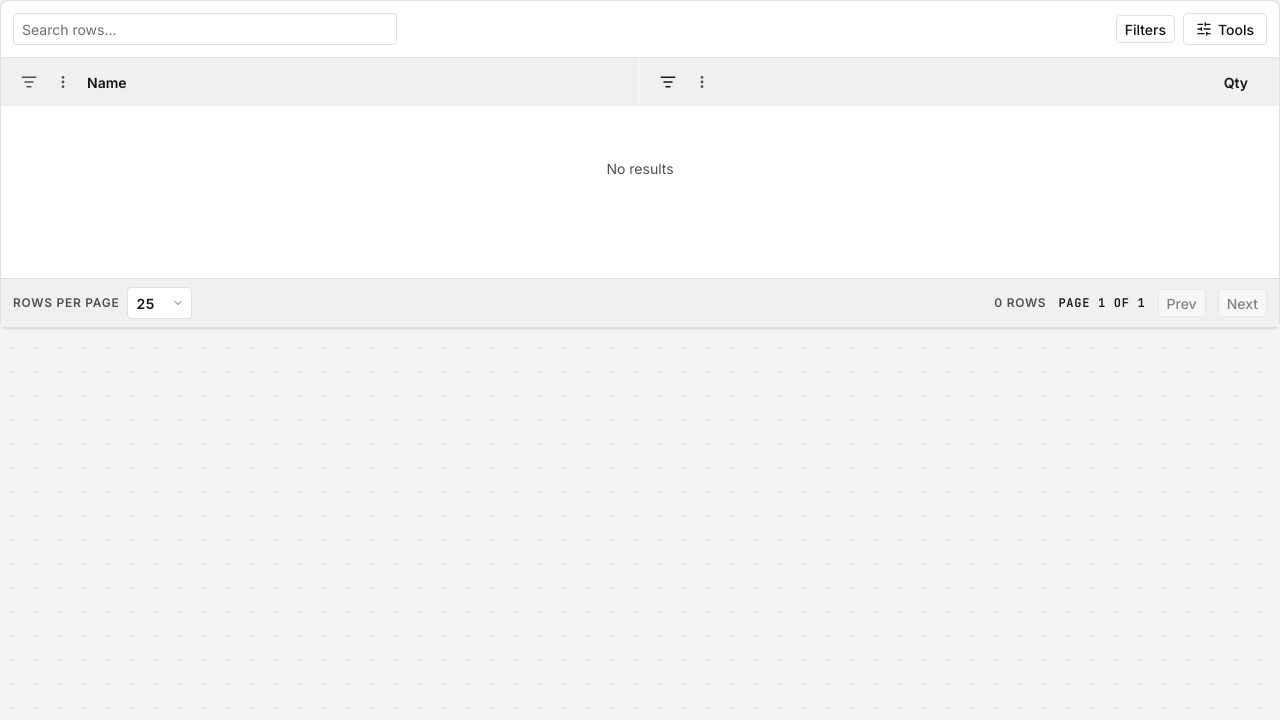
Scenario: floating filter sync › shows a read-only chip (not an editable input) for a between filter, with a clear button
Click the button "Filters".
click(1145, 29)  # box 1116,15 -> 1175,43
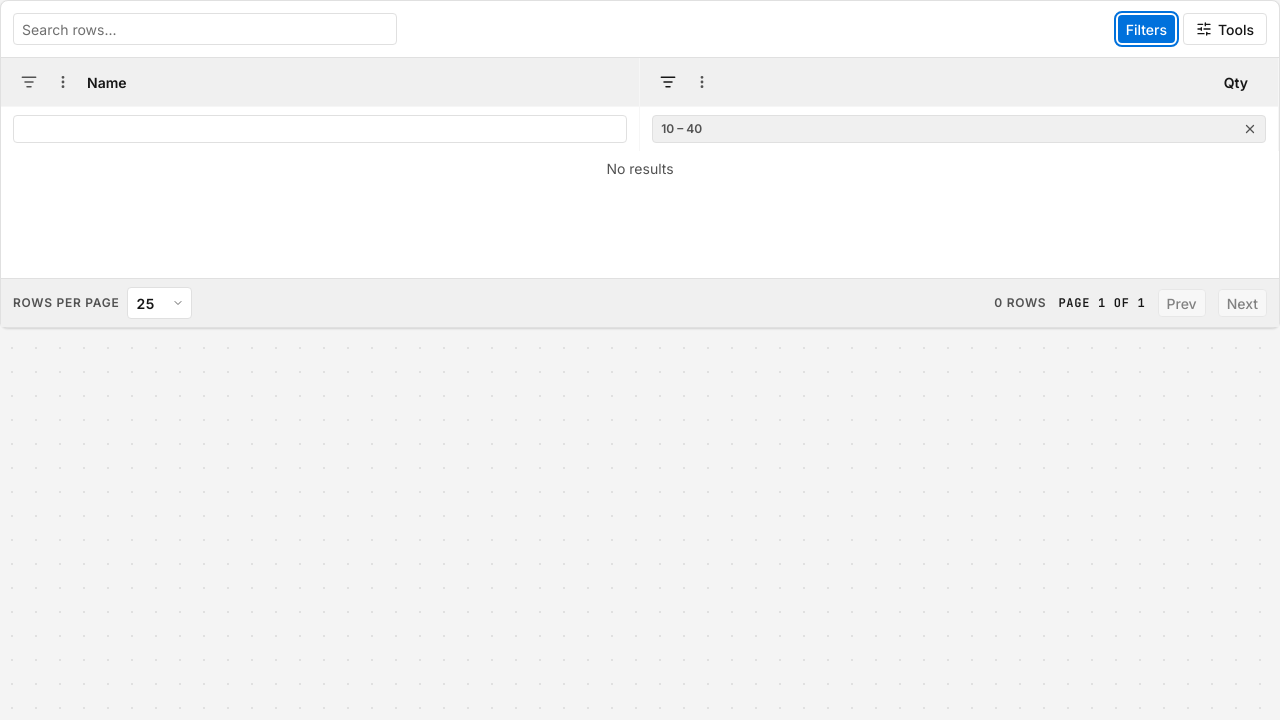
Check: the text "10 – 40" is shown, box 661,120 -> 702,138
// Clearing it from the chip restores an editable inline input.
Click the button named "clear qty filter".
click(1250, 129)  # box 1243,122 -> 1257,136
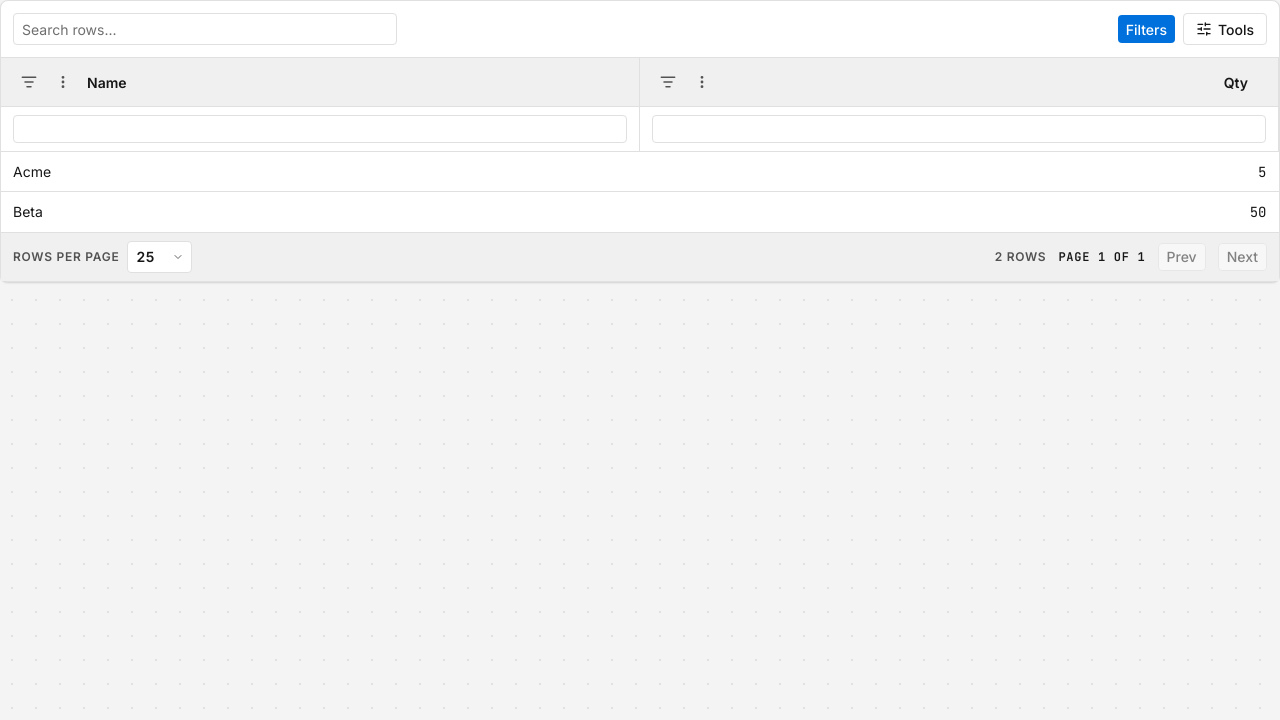
Check: the number field named "filter qty" is shown, box 652,115 -> 1266,143
